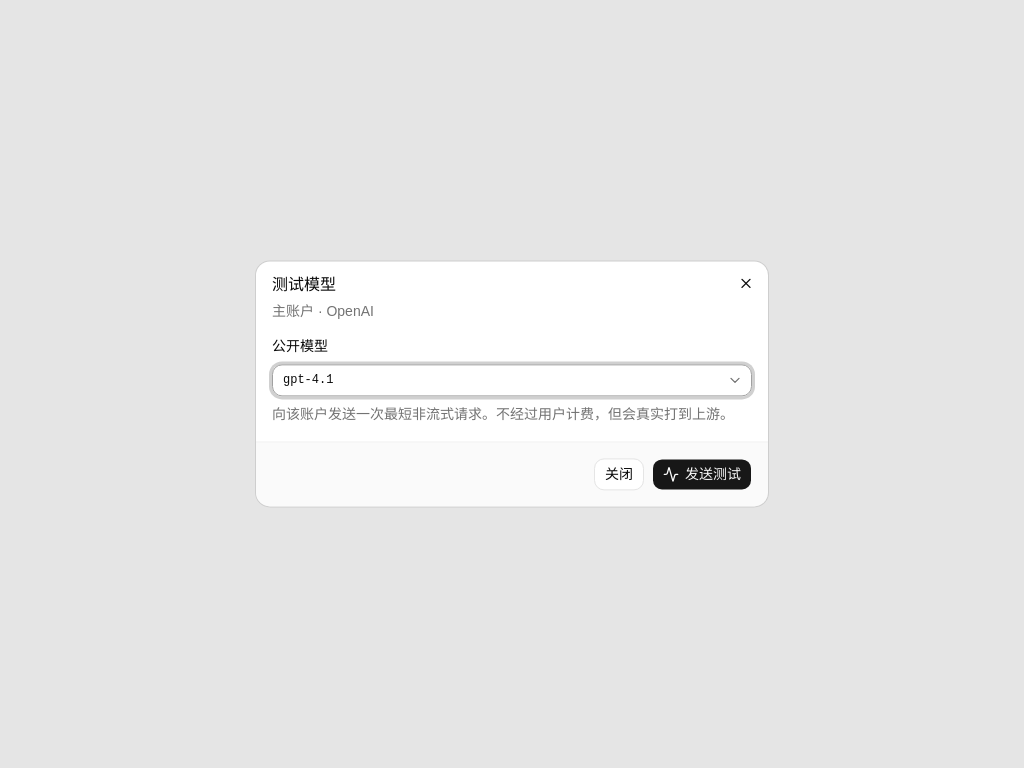
Test: test account dialog › keeps a failed result available for retry
Click the button "发送测试": {"x": 702, "y": 475} x1=652 y1=459 x2=752 y2=491
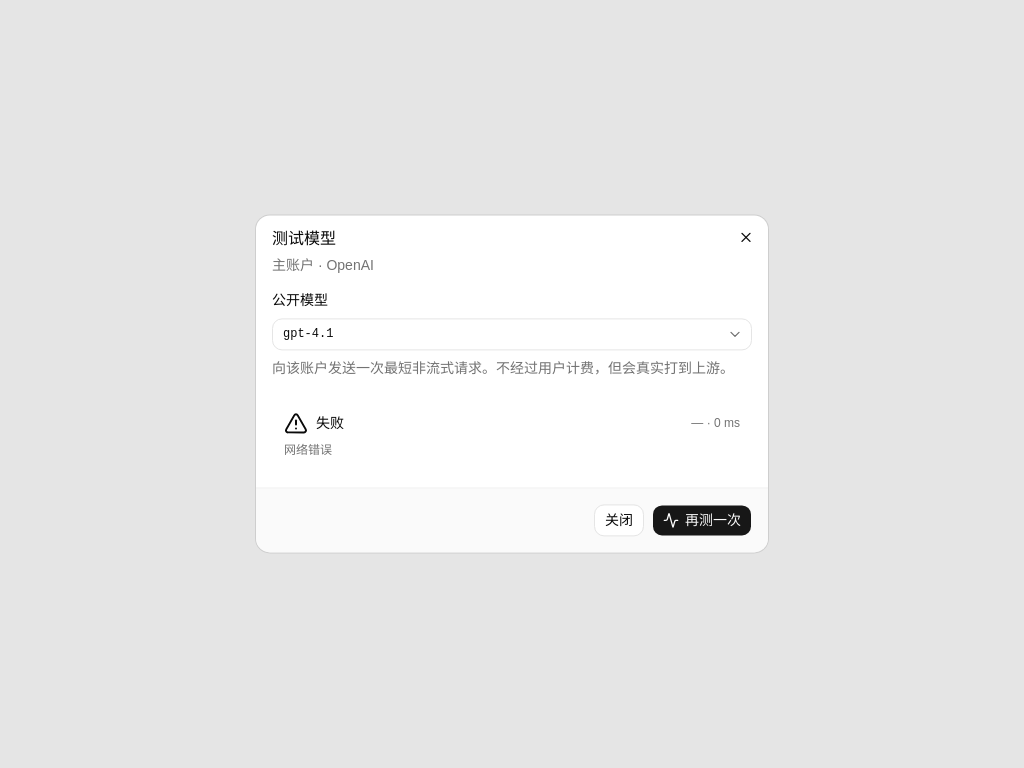
Expected: the text "失败" is shown, x1=284 y1=412 x2=344 y2=436
Expected: the button "再测一次" is shown
Click the button "再测一次": {"x": 702, "y": 521} x1=652 y1=505 x2=752 y2=537
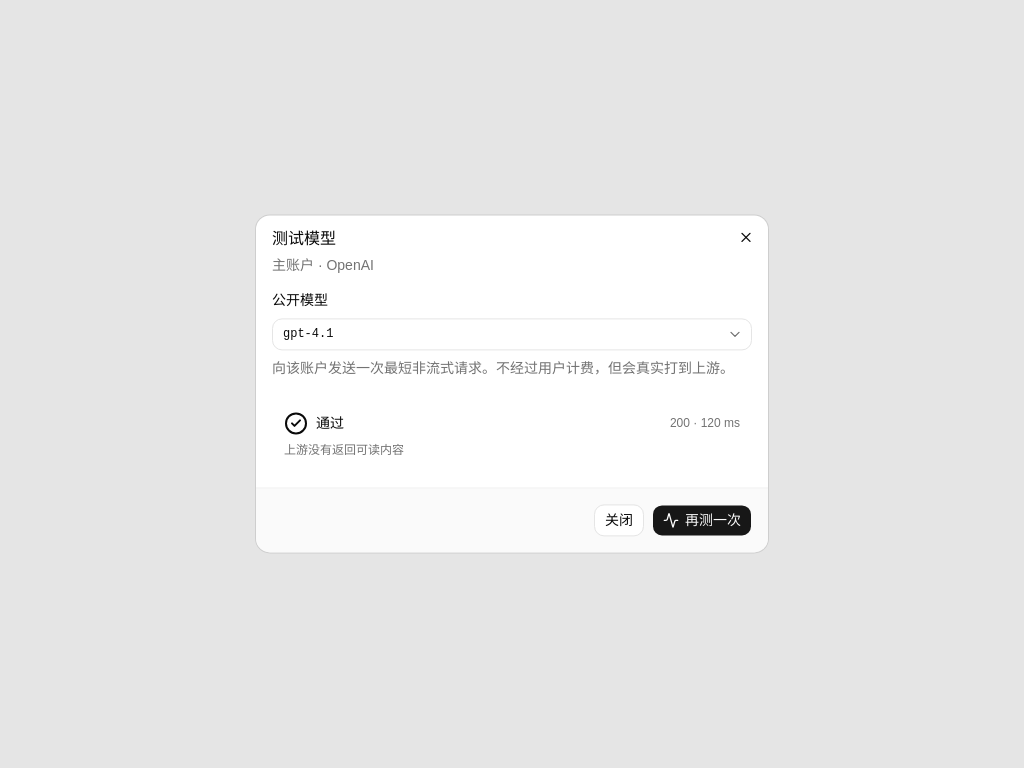
Expected: the text "通过" is shown, x1=284 y1=412 x2=344 y2=436
